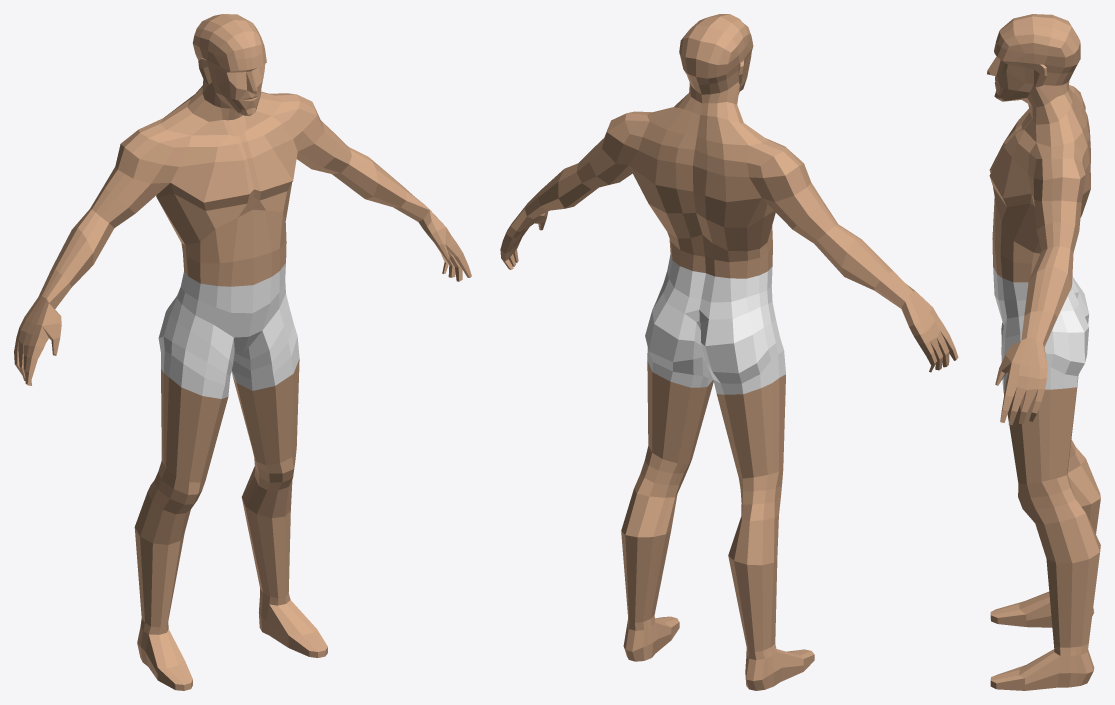
The model's file is BASE MASH - LOW POLY M.fbx.
3 renders of one model, left to right at view 1: azimuth 30°, elevation 25°; view 2: azimuth 150°, elevation 25°; view 3: azimuth 270°, elevation 25°, orthographic.
Visible parts, largest first — view 1: Base H; view 2: Base H; view 3: Base H.
Part boxes in pixels (bbox=[...]): Base H: bbox=[14, 14, 471, 690]; Base H: bbox=[500, 14, 958, 690]; Base H: bbox=[987, 14, 1100, 690].
Bounding box in the file's own units: 184 × 253 × 41.1.
